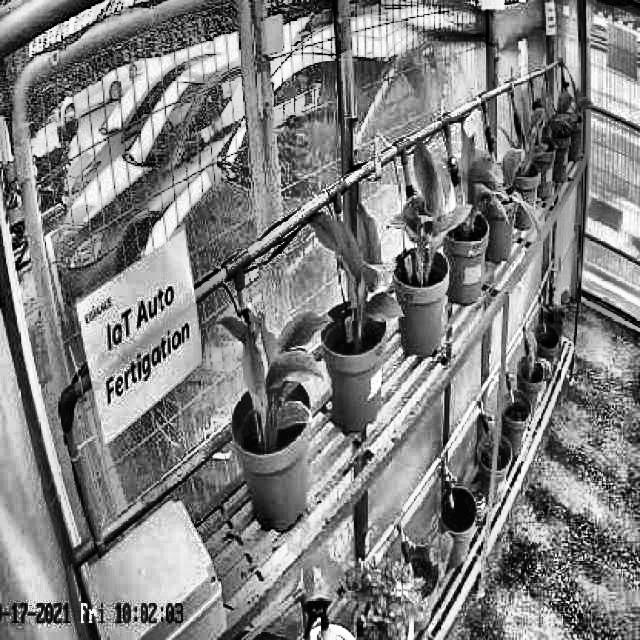plants: (221, 312, 334, 438), (307, 201, 402, 334), (390, 136, 464, 276), (456, 130, 504, 236), (513, 92, 549, 174)
